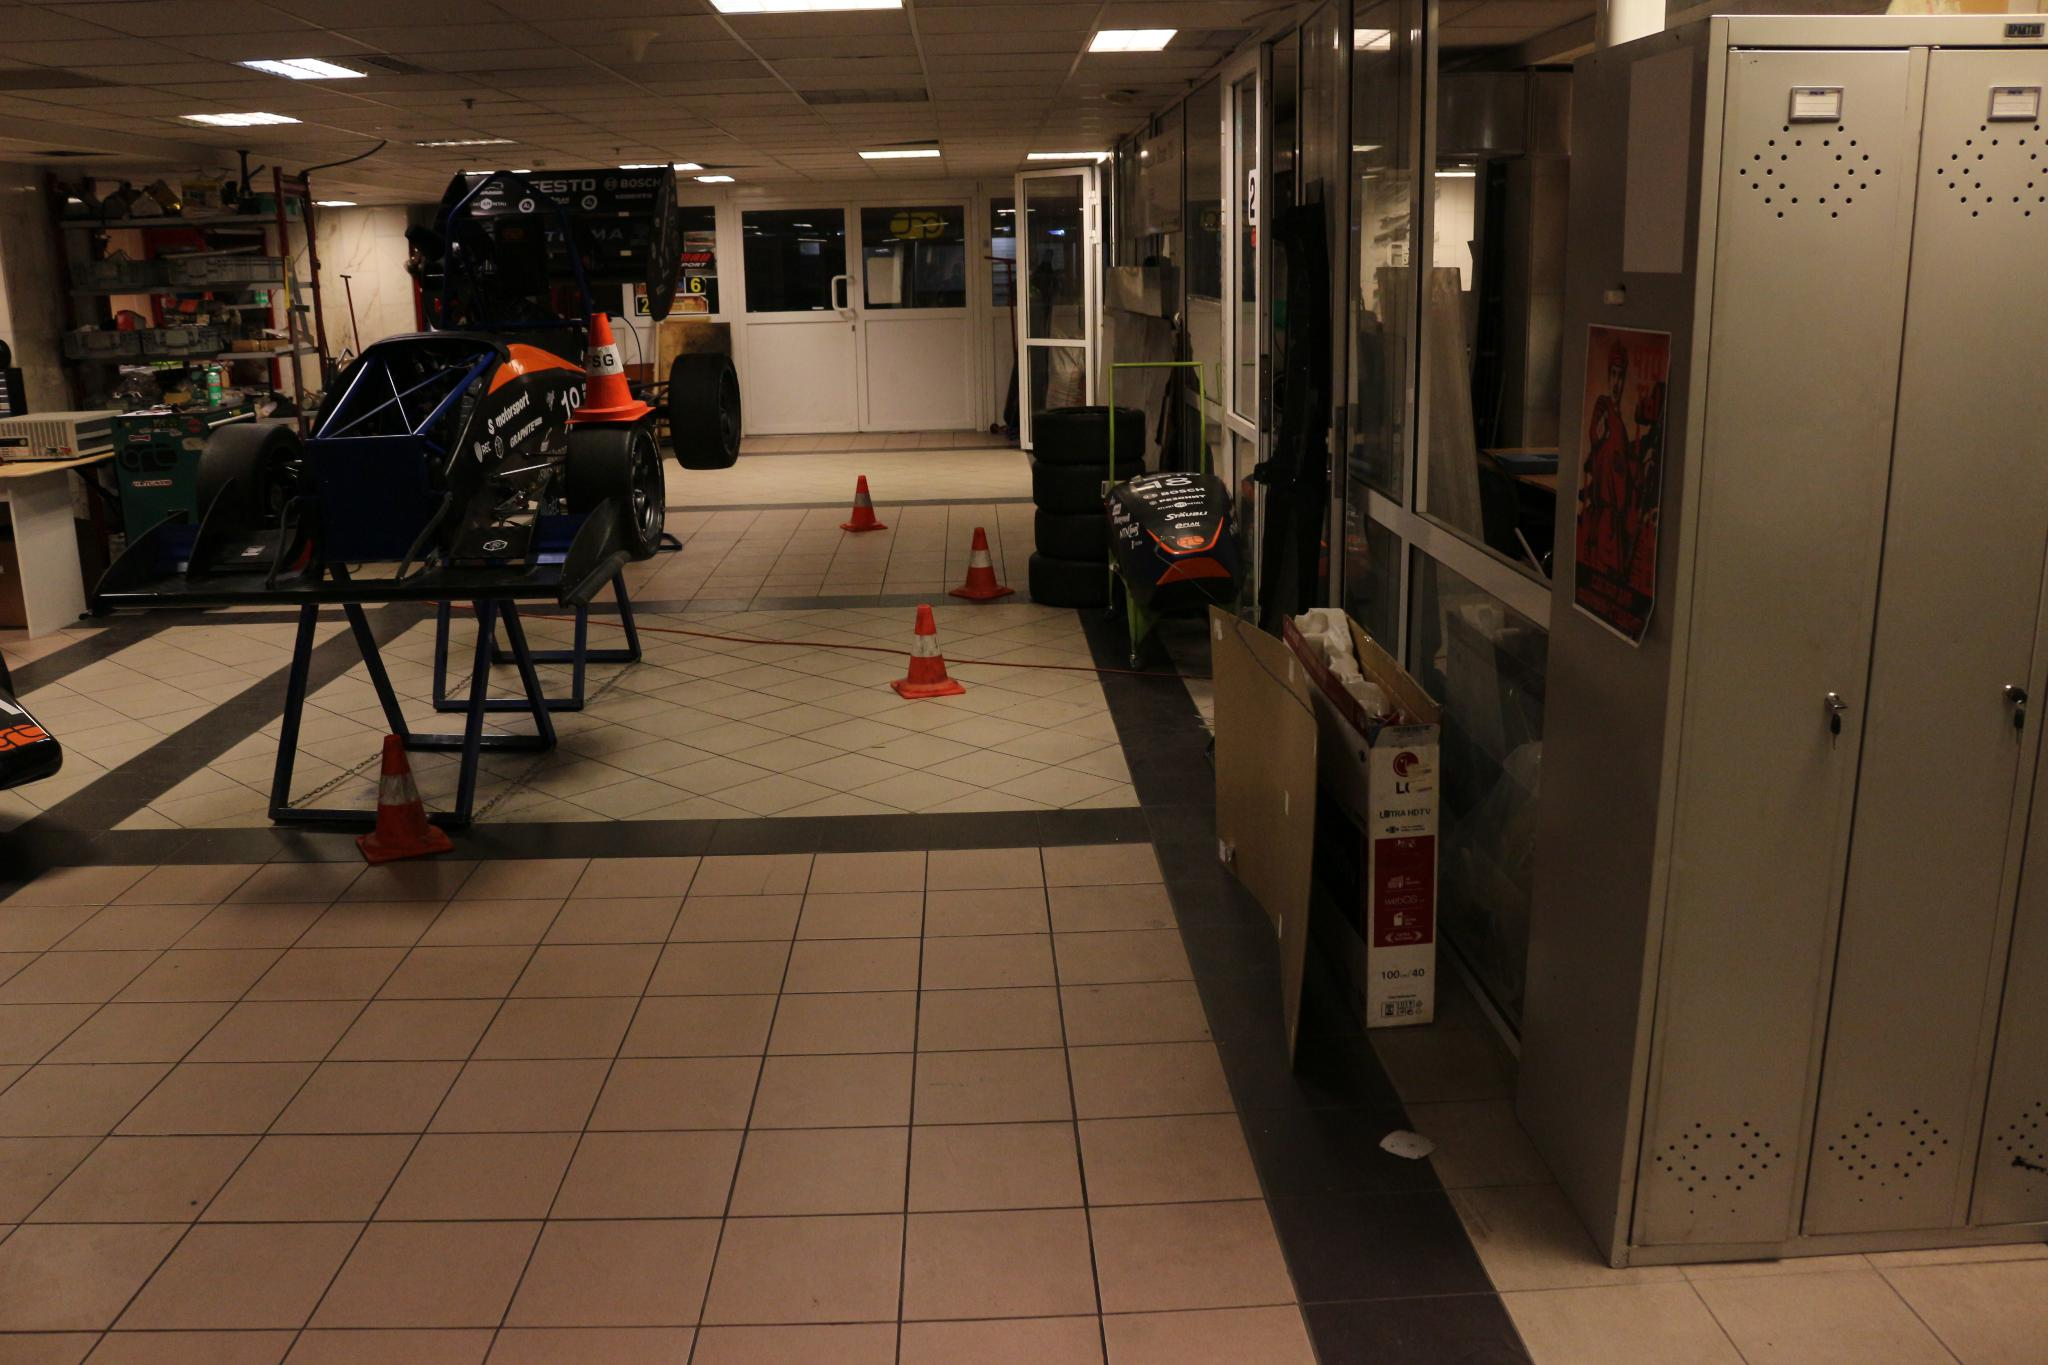Orange_Cone: (362, 728, 448, 865), (560, 309, 655, 430), (889, 596, 968, 701), (950, 524, 1019, 611), (837, 468, 888, 535)
